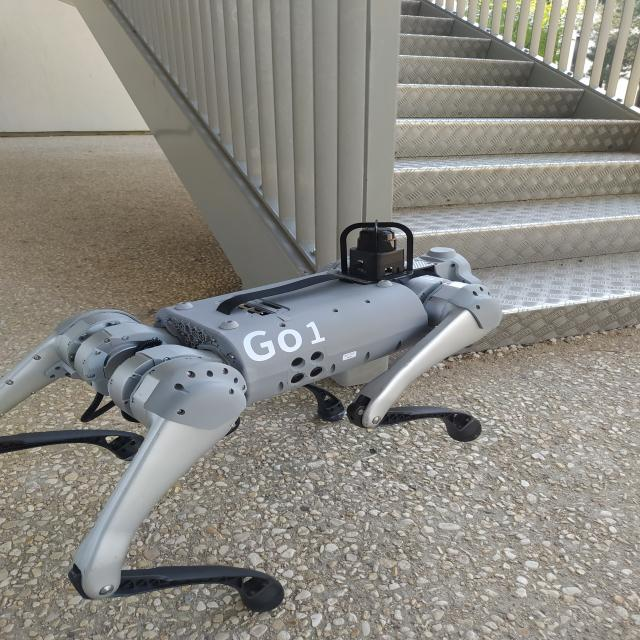unitree-go1-robot: (5, 203, 505, 617)
